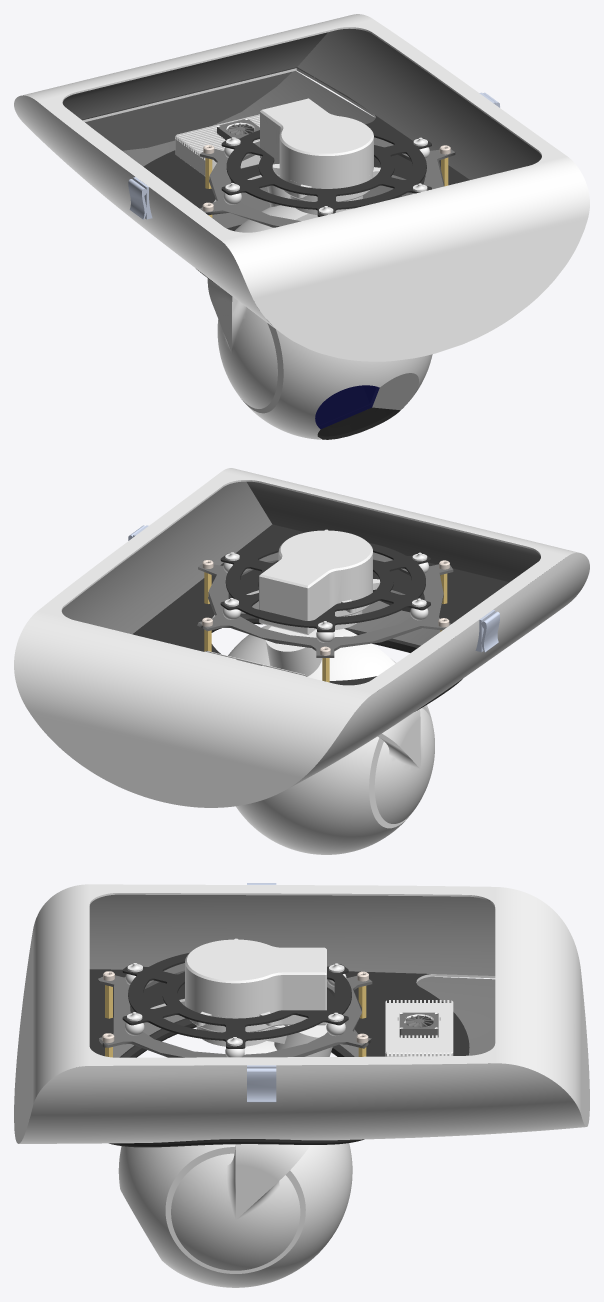
Rendered from Thermal SV_web.glb.
3 views of the same model, one above another, from view 1: azimuth 30°, elevation 25°; view 2: azimuth 150°, elevation 25°; view 3: azimuth 270°, elevation 25° (orthographic). The views are drawn at different scales.
Parts seen in each view (by area): view 1: Payload - survei - Copy-1, Payload - survei - Copy - Copy-1; view 2: Payload - survei - Copy-1, Payload - survei - Copy - Copy-1; view 3: Payload - survei - Copy-1, Payload - survei - Copy - Copy-1.
Part boxes in pixels (left/top/right/bottom): Payload - survei - Copy-1: left=14, top=14, right=589, bottom=361; Payload - survei - Copy - Copy-1: left=207, top=98, right=432, bottom=439; Payload - survei - Copy-1: left=14, top=468, right=589, bottom=807; Payload - survei - Copy - Copy-1: left=228, top=530, right=434, bottom=854; Payload - survei - Copy-1: left=14, top=883, right=589, bottom=1147; Payload - survei - Copy - Copy-1: left=118, top=939, right=352, bottom=1287.
Bounding box in the file's own units: 0.2281 × 0.1795 × 0.2956.
